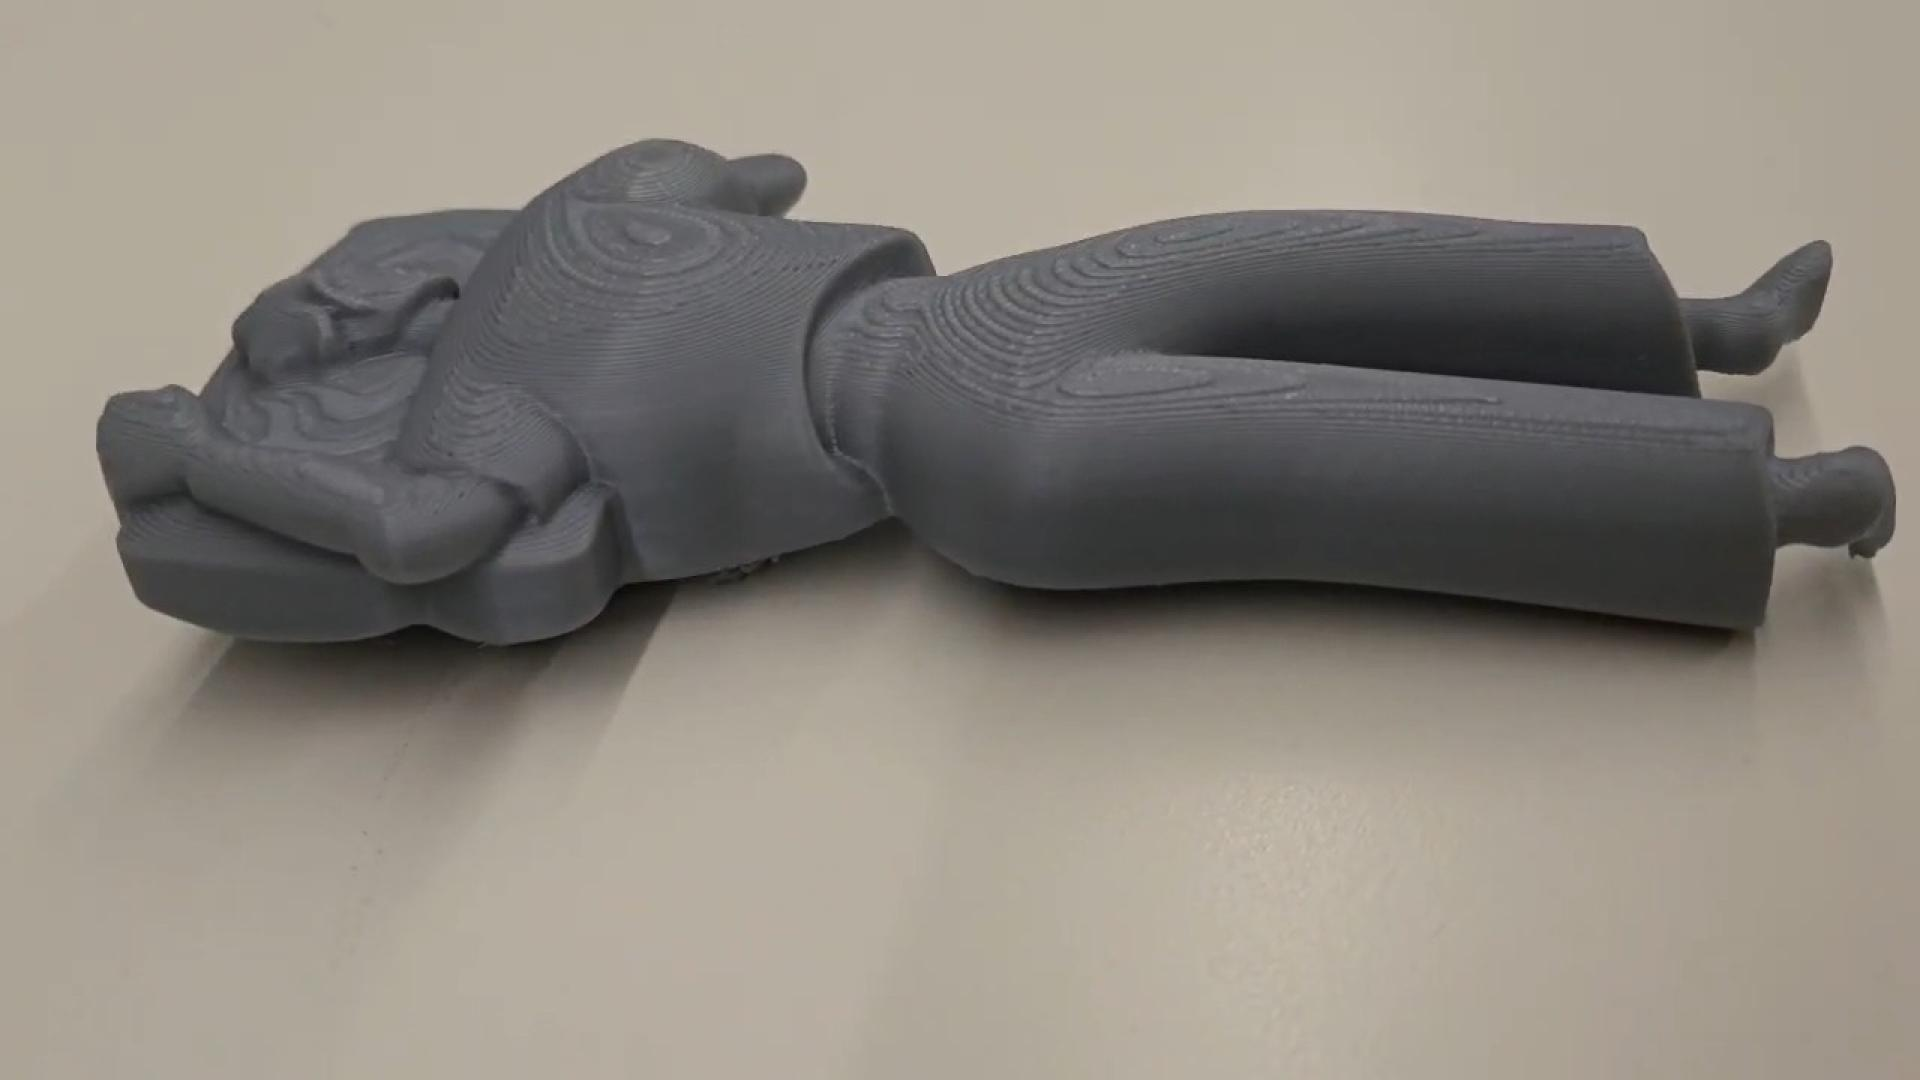Bad-style: (80, 136, 1900, 675)
